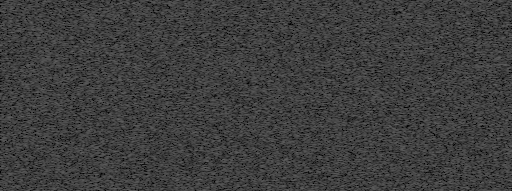wv_am: (321, 0, 327, 191), (205, 0, 211, 191)
wv_cw: (292, 0, 297, 191)
wv_lsb: (66, 1, 72, 191), (291, 1, 297, 124), (291, 125, 297, 191)
wv_usb: (258, 1, 263, 191), (296, 1, 301, 152), (416, 43, 421, 93), (296, 158, 301, 191), (417, 153, 420, 191), (417, 1, 420, 38), (296, 153, 301, 157), (417, 133, 420, 136)
